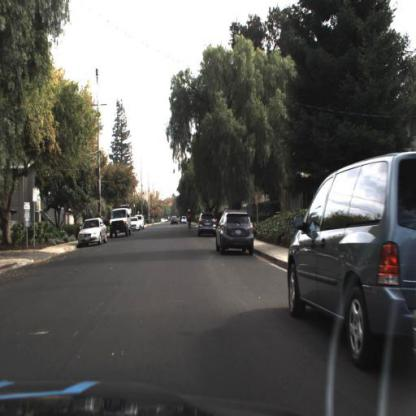biker: (186, 205, 196, 234)
car: (286, 148, 416, 375), (215, 204, 255, 255), (77, 217, 109, 250), (108, 203, 133, 243), (196, 209, 219, 242), (139, 210, 149, 233), (130, 213, 141, 233)
